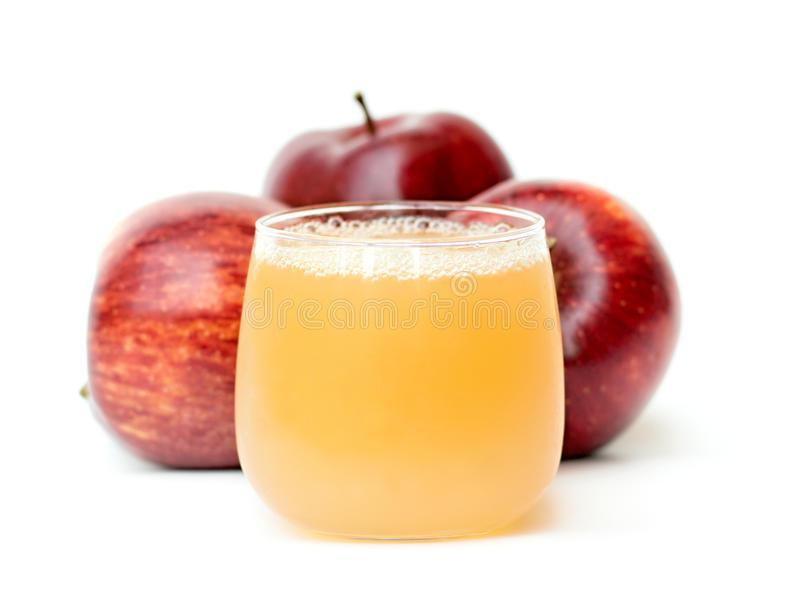apple: (458, 169, 675, 457), (82, 189, 281, 466)
